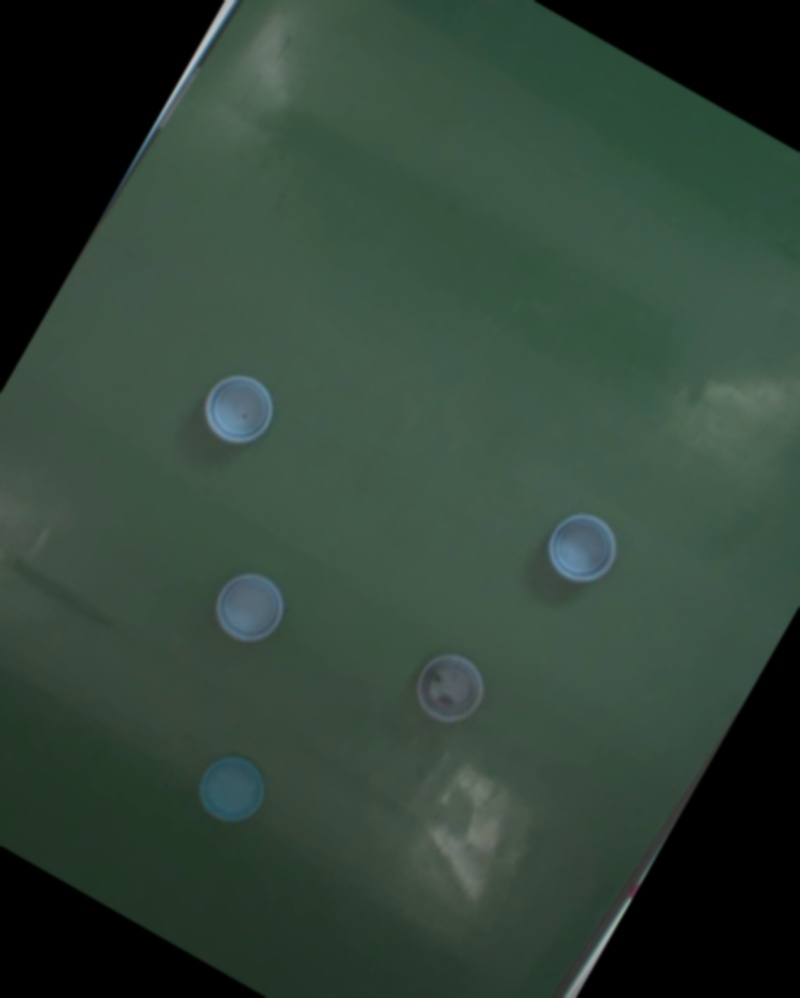Light Blue: (193, 363, 286, 457), (203, 561, 296, 654), (537, 502, 629, 595), (403, 643, 495, 736), (189, 745, 280, 836)
